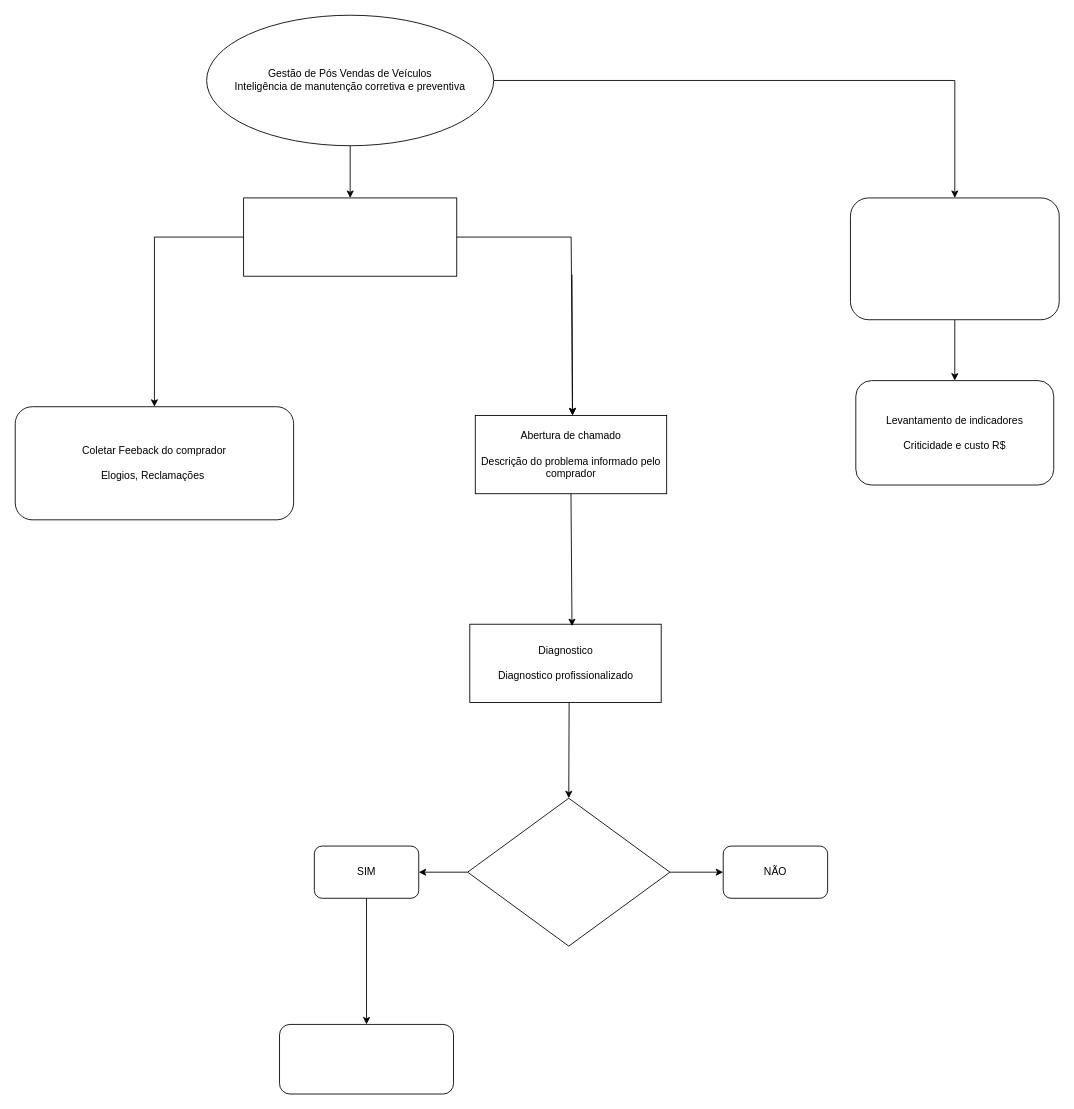
Some shapes in this 1074 by 1109 pixel diagram are drawn without their labels. The shapes that lost their labels are listed below. From the top down, each one's centre as x and y in pixels, then its label:
At [350,236]: "Cadastrar veículo Fabricante, Ano e Modelo Data da venda".
At [954,258]: "Consulta de hisórico de veículos vendidos".
At [568,871]: "Realizar manutenção ? 3 meses".
At [366,1059]: "Orçamento de peças para reparo".
